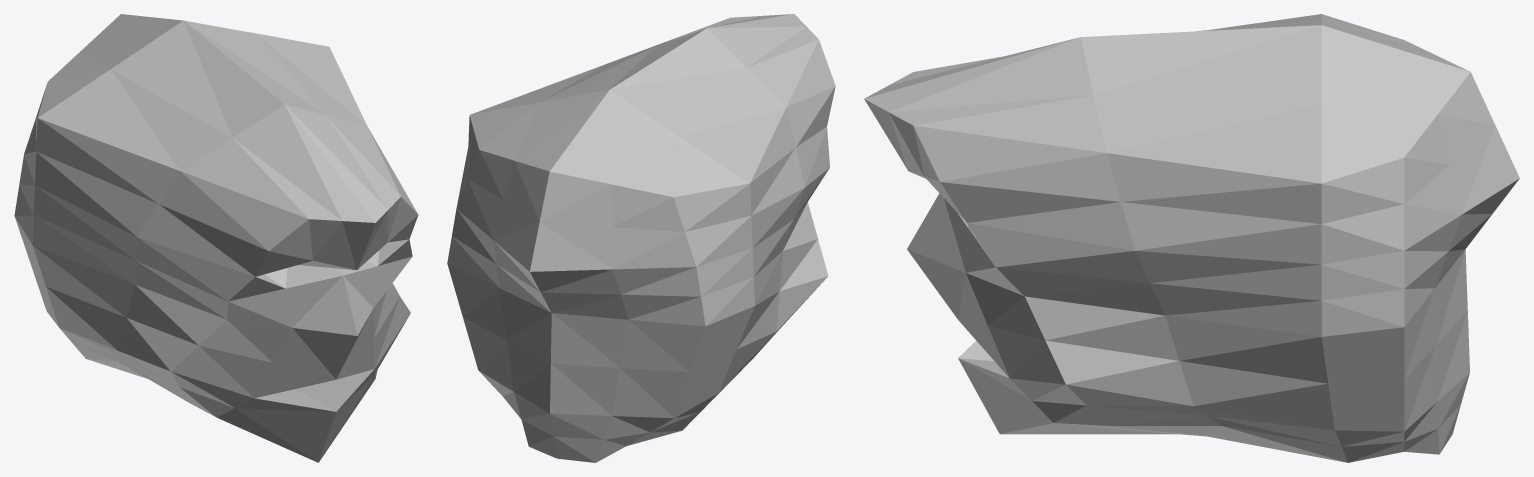
The model's file is float_Head.obj.
3 views of the same model, side by side, from view 1: azimuth 30°, elevation 25°; view 2: azimuth 150°, elevation 25°; view 3: azimuth 270°, elevation 25° (orthographic). The views are drawn at different scales.
Visible parts, largest first — view 1: 立方体; view 2: 立方体; view 3: 立方体.
Boxes of the visible parts, box(x1,y1,x2,y2) form: 立方体: box(14, 14, 418, 462); 立方体: box(447, 14, 835, 462); 立方体: box(864, 14, 1519, 462).
Bounding box in the file's own units: 0.7766 × 0.8448 × 1.23.
Materials: 1 (1 with a texture image).
